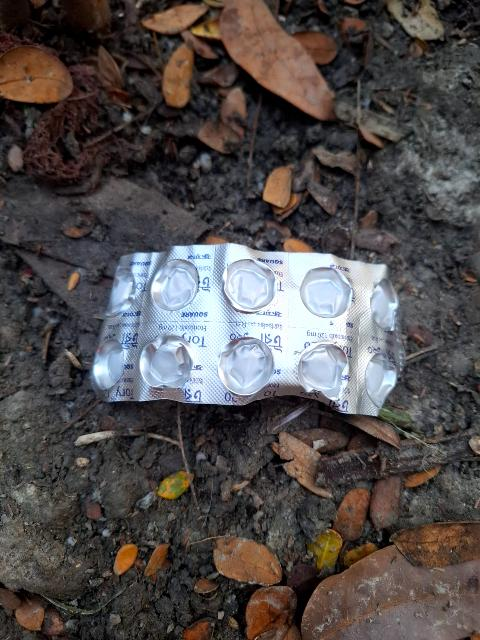medicine: (102, 244, 406, 408)
